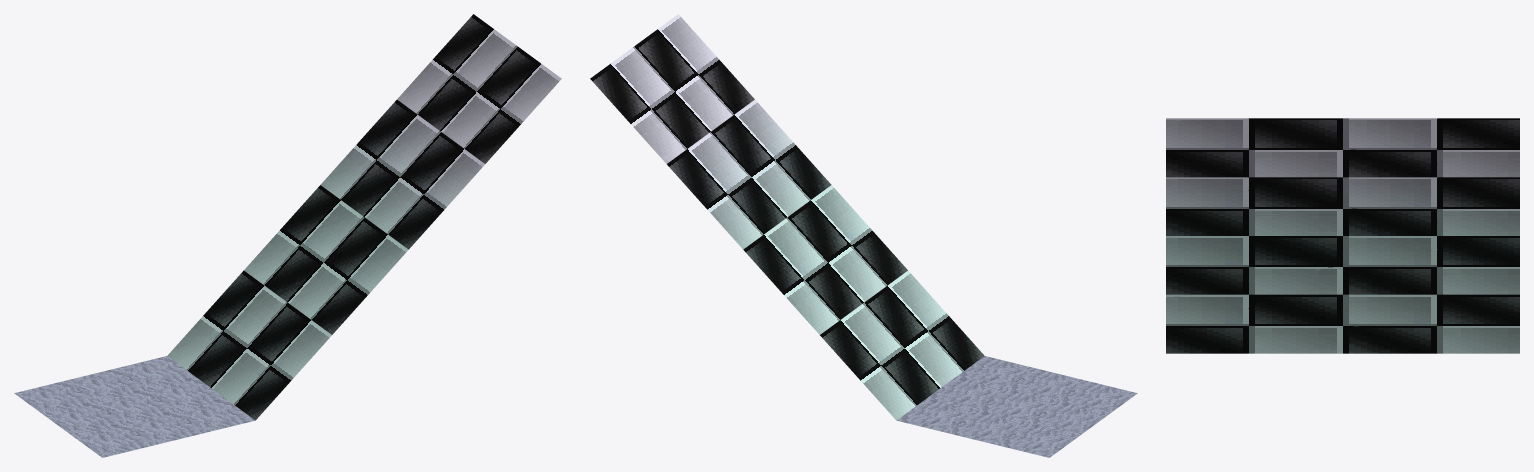
File: km1_dorifu4.glb
The picture shows the model from 3 angles, left to right: view 1: azimuth 30°, elevation 25°; view 2: azimuth 150°, elevation 25°; view 3: azimuth 270°, elevation 25°; orthographic projection. The views are drawn at different scales.
Parts seen in each view (by area): view 1: km1_dorifu4; view 2: km1_dorifu4; view 3: km1_dorifu4.
Part boxes in pixels (x1=…): km1_dorifu4: x1=14, y1=14, x2=561, y2=457; km1_dorifu4: x1=590, y1=14, x2=1137, y2=457; km1_dorifu4: x1=1166, y1=118, x2=1519, y2=353.
Size of the model in its own units: 225 by 125 by 75.
Materials: 2 (2 with a texture image).
